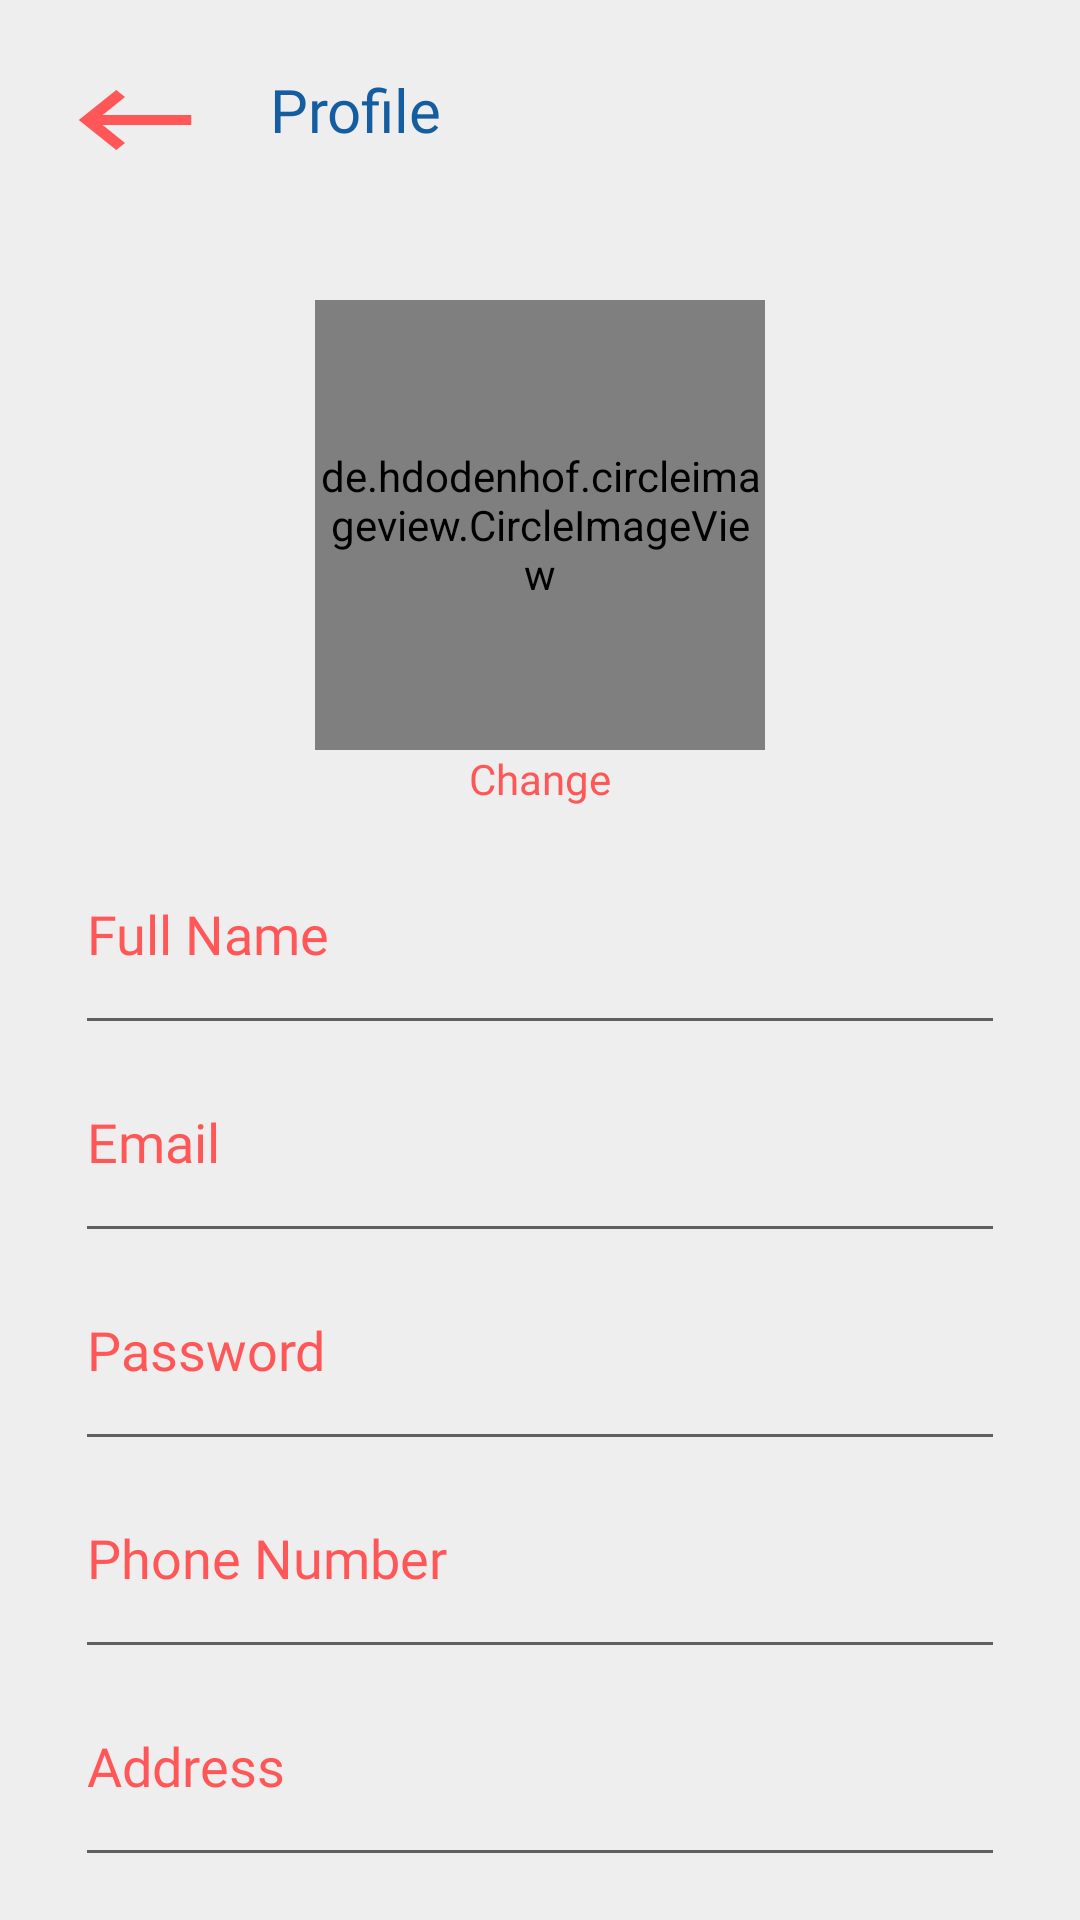

Icon bounding boxes for this 1080w x 1920h phone screenshot, format (x1, y1, x2, y2):
back: (79, 90, 192, 150)
